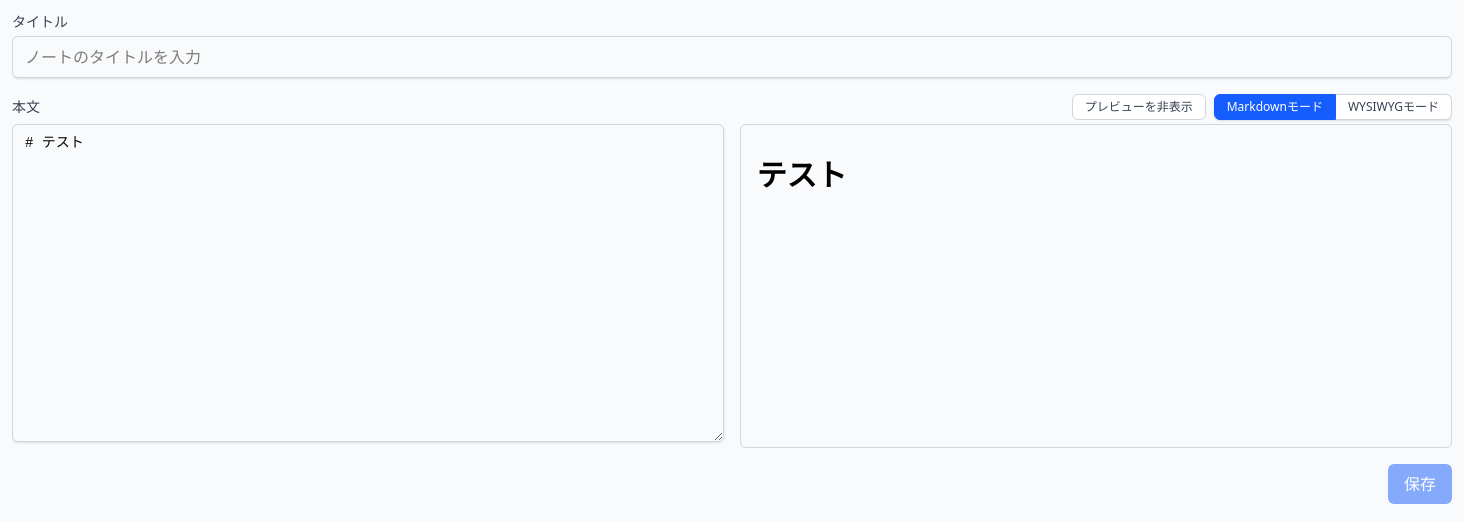
Test: NoteEditor › プレビュー表示ボタンをクリックするとプレビューが再表示されること
# プレビューを非表示にする
Click the button "プレビューを非表示" at (1139, 107), box [1072,94,1206,120]
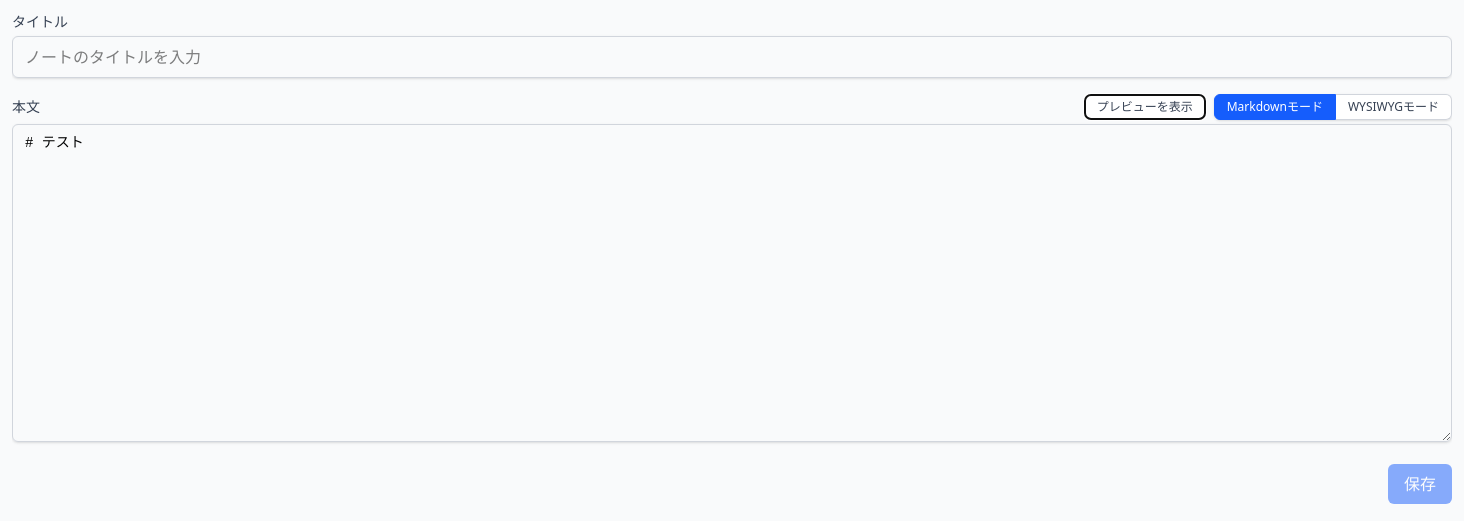
# プレビューを再表示する
Click the button "プレビューを表示" at (1145, 107), box [1084,94,1206,120]
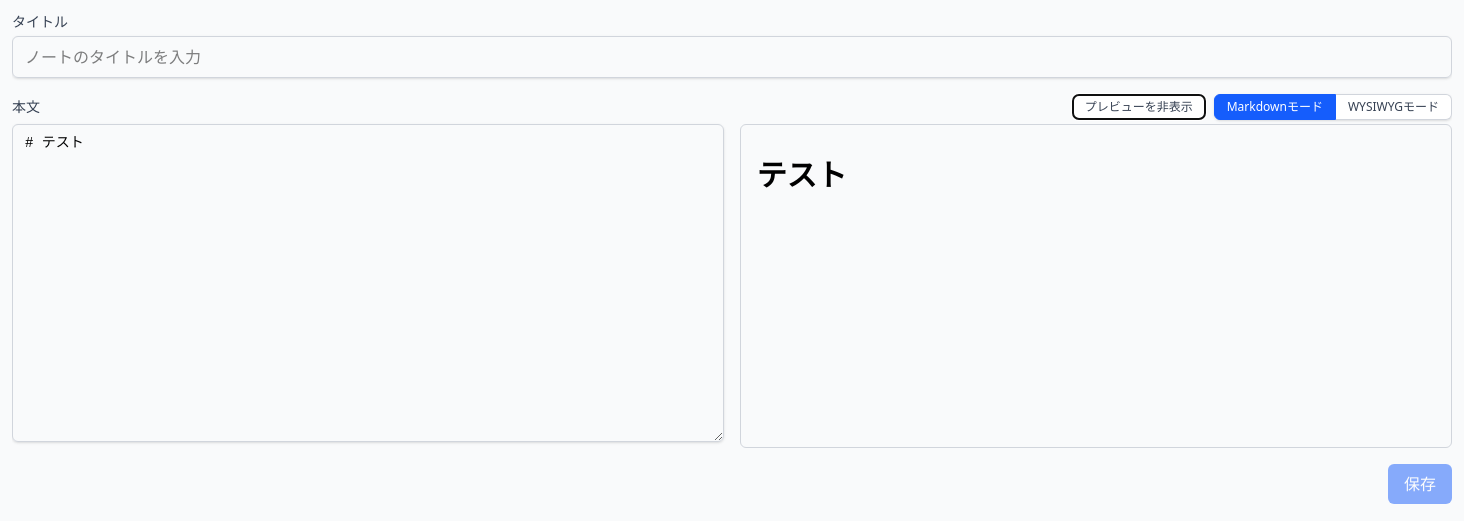
Expected: the element named "プレビューパネル" is shown, [740,124,1452,448]
